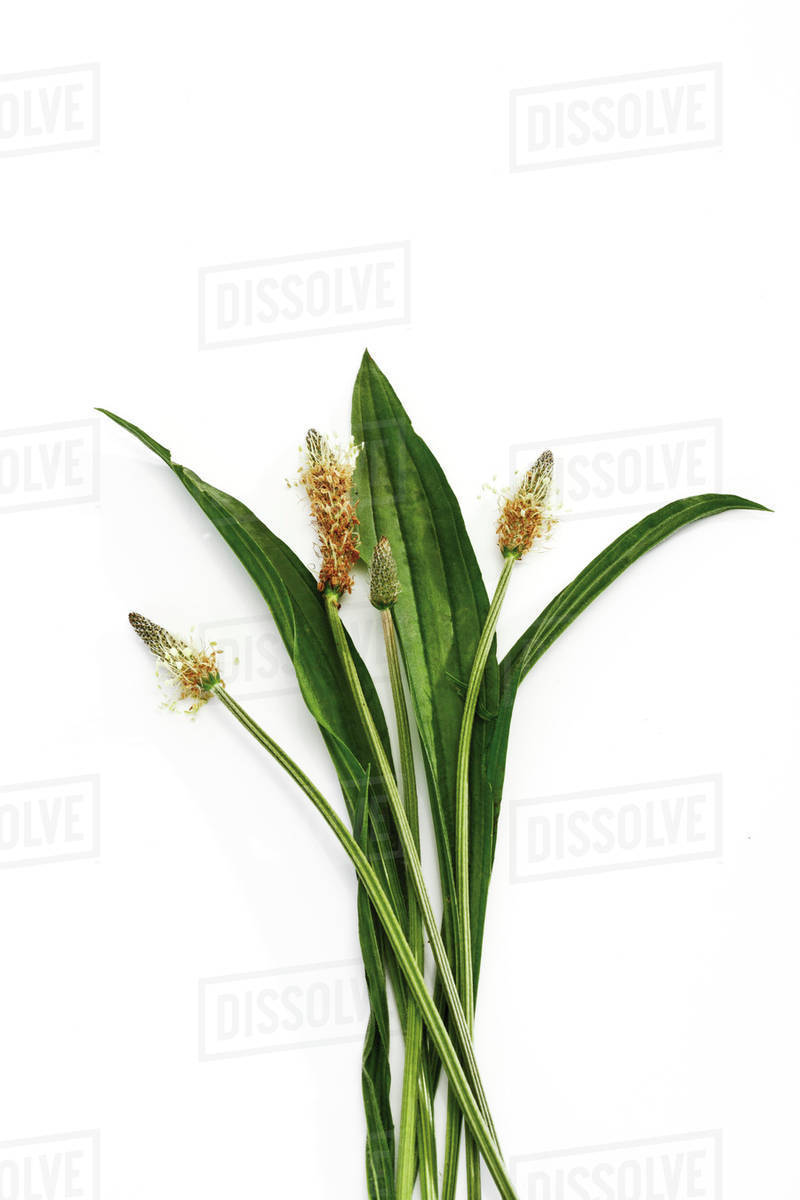buckhorn plantain: (76, 345, 736, 1186)
